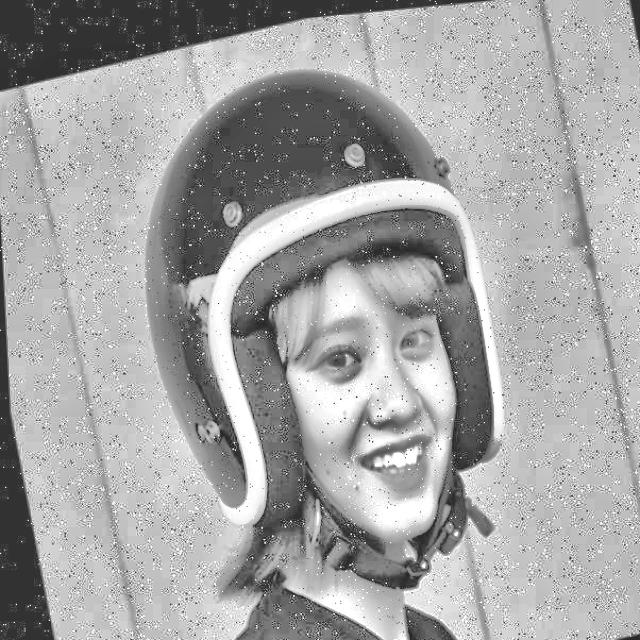Helmet: (98, 11, 544, 640)
